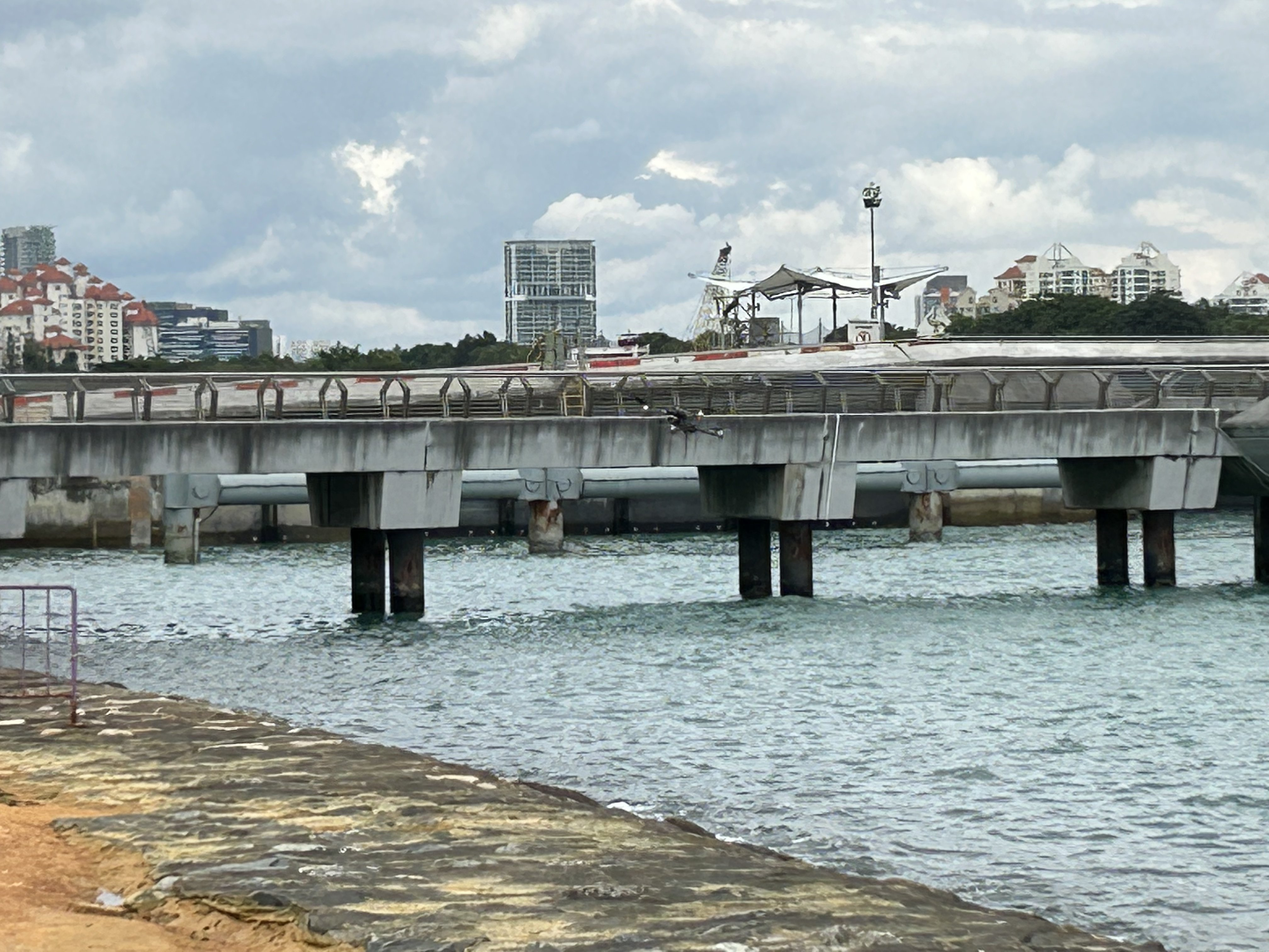drone_other: (633, 395, 732, 445)
